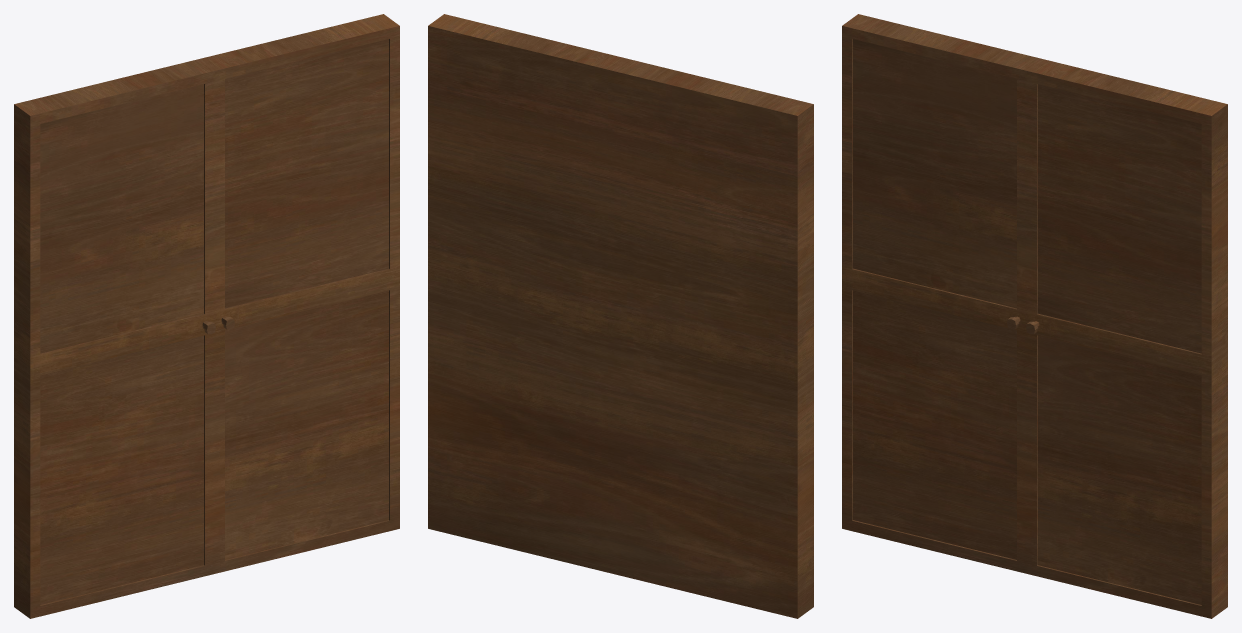
File: porta.fbx
3 views of the same model, side by side, from view 1: azimuth 30°, elevation 25°; view 2: azimuth 150°, elevation 25°; view 3: azimuth 330°, elevation 25° (orthographic).
Parts seen in each view (by area): view 1: Cube; view 2: Cube; view 3: Cube.
Boxes of the visible parts, box(x1,y1,x2,y2) form: Cube: box(14, 14, 399, 618); Cube: box(428, 14, 813, 618); Cube: box(842, 14, 1227, 618).
Size of the model in its own units: 200 by 260 by 20.68.
